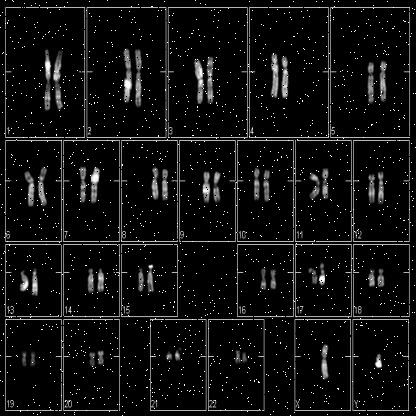1: (52, 49, 64, 112), (43, 48, 52, 112)
10: (252, 166, 260, 202), (264, 168, 271, 204)
11: (308, 171, 320, 202), (320, 166, 330, 202)
12: (377, 170, 386, 206), (368, 172, 376, 204)
13: (18, 268, 30, 294), (30, 266, 39, 298)
14: (86, 266, 94, 295), (97, 268, 104, 295)
15: (147, 262, 154, 296), (138, 266, 145, 295)
16: (260, 266, 268, 292), (268, 268, 276, 290)
17: (307, 266, 318, 286), (318, 262, 326, 288)
18: (376, 266, 386, 289), (368, 268, 376, 289)
19: (29, 349, 37, 367), (21, 350, 28, 367)
2: (133, 47, 144, 110), (122, 46, 132, 104)
20: (88, 350, 96, 368), (97, 348, 104, 366)
21: (173, 348, 182, 364), (166, 350, 173, 362)
22: (241, 348, 248, 368), (234, 349, 242, 365)
3: (204, 54, 216, 106), (193, 56, 204, 106)
4: (270, 51, 280, 100), (280, 53, 289, 102)
5: (378, 59, 388, 104), (368, 61, 375, 107)
6: (23, 169, 36, 209), (37, 166, 49, 207)
7: (90, 164, 102, 206), (79, 164, 87, 204)
8: (160, 166, 169, 206), (151, 166, 160, 202)
9: (201, 168, 210, 204), (212, 168, 221, 204)
X: (320, 342, 332, 382)
Y: (374, 351, 384, 371)
